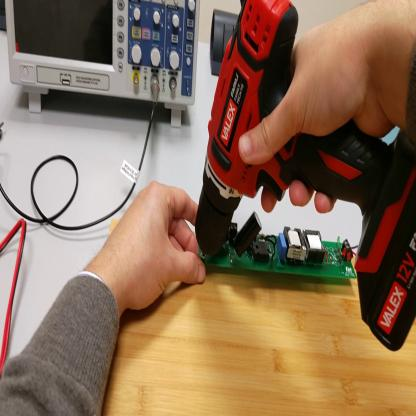electric screwdriver: (195, 2, 416, 353)
hand: (235, 17, 398, 217), (105, 183, 206, 314)
high voltage board: (194, 214, 360, 280)
oscilloscope: (5, 4, 201, 133)
oscilloscope probe tip: (2, 120, 6, 134)
socket: (1, 3, 9, 37)
working area: (102, 215, 416, 414)
